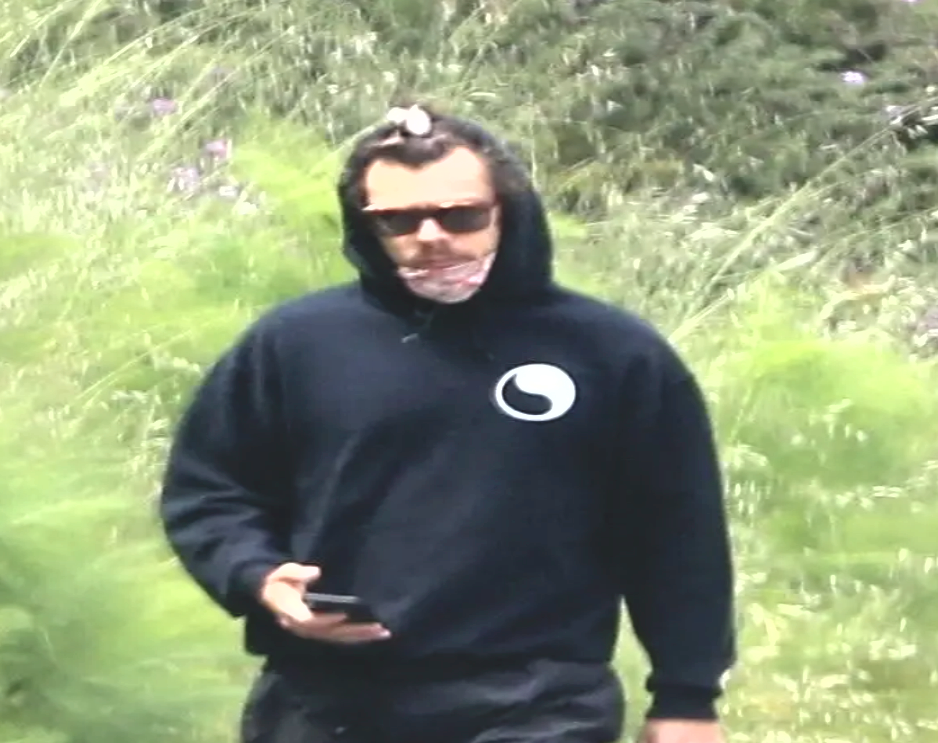mask_weared_incorrect: (338, 126, 528, 312)
